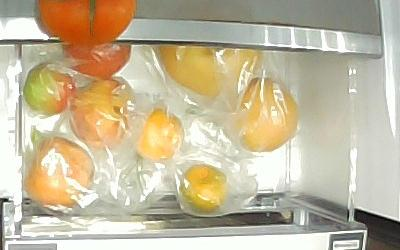peach_vinyl: (67, 76, 139, 148), (22, 135, 95, 206)
pear_vinyl: (157, 43, 262, 97), (231, 77, 300, 154)
tangerine_vinyl: (135, 107, 185, 162), (178, 161, 228, 214)
tomato_vinyl: (21, 60, 76, 116), (59, 43, 131, 77)
